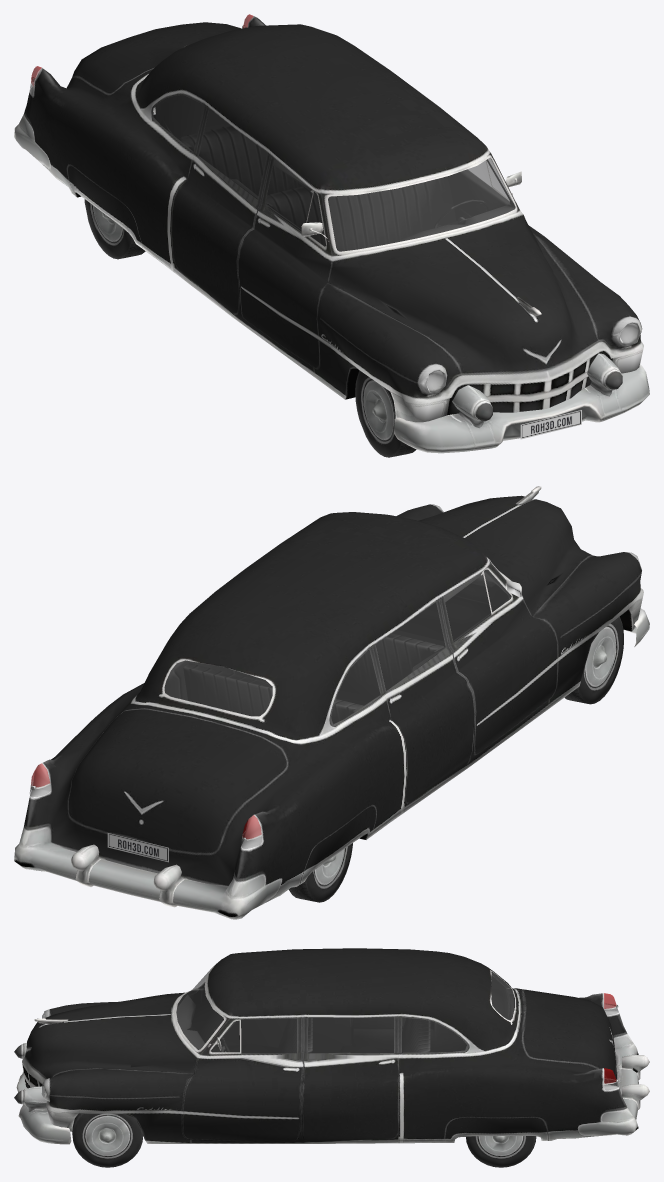
File: car_cadillac.glb
The picture shows the model from 3 angles, top to bottom: view 1: azimuth 30°, elevation 25°; view 2: azimuth 150°, elevation 25°; view 3: azimuth 270°, elevation 25°; orthographic projection. The views are drawn at different scales.
Parts seen in each view (by area): view 1: Object_2, Object_3, Object_4; view 2: Object_2, Object_3, Object_4; view 3: Object_2, Object_3, Object_4.
Boxes of the visible parts, x1,y1,x2,y2 form: Object_2: [14, 16, 649, 453]; Object_3: [84, 95, 515, 457]; Object_4: [30, 14, 639, 392]; Object_2: [14, 486, 649, 919]; Object_3: [164, 569, 623, 902]; Object_4: [29, 570, 511, 848]; Object_2: [14, 948, 649, 1144]; Object_3: [72, 975, 536, 1167]; Object_4: [41, 968, 618, 1097].
Bounding box in the file's own units: 1.82 × 1.59 × 5.6.
Materials: 3 (3 with a texture image).
